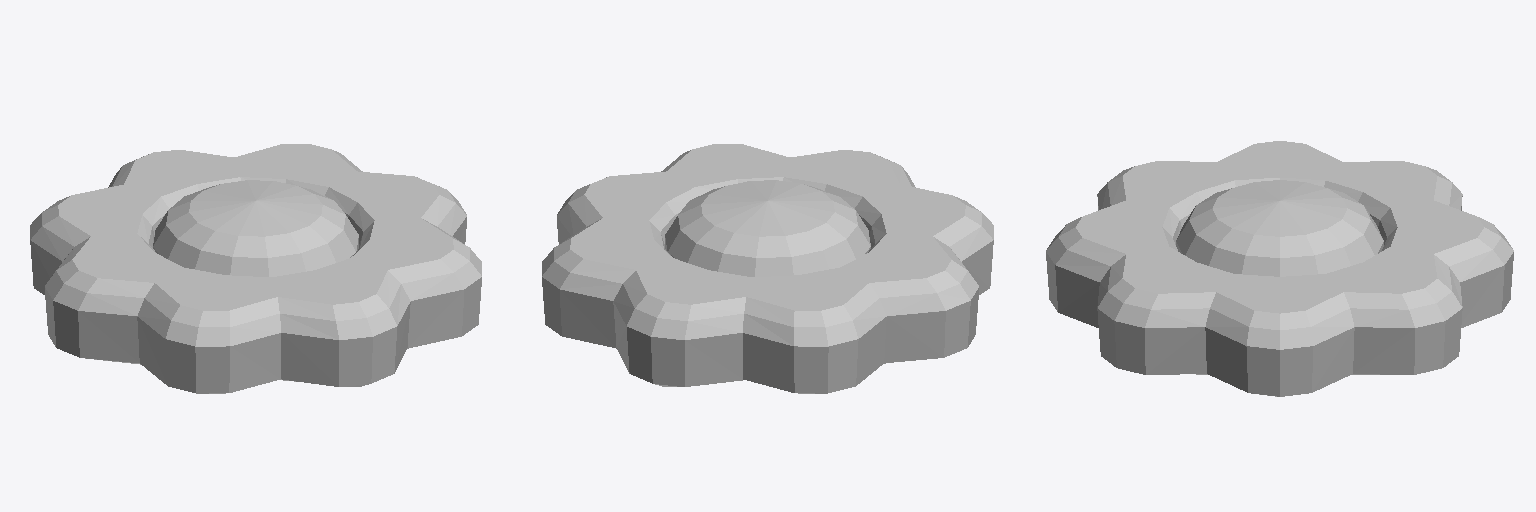
Rendered from cookie.obj.
3 views of the same model, side by side, from view 1: azimuth 30°, elevation 25°; view 2: azimuth 150°, elevation 25°; view 3: azimuth 270°, elevation 25° (orthographic).
Visible parts, largest first — view 1: cookie; view 2: cookie; view 3: cookie.
Part boxes in pixels (x1,y1,x2,y2): cookie: (30, 144, 481, 393); cookie: (542, 144, 993, 393); cookie: (1046, 141, 1513, 396).
Bounding box in the file's own units: 0.4924 × 0.1284 × 0.4924.